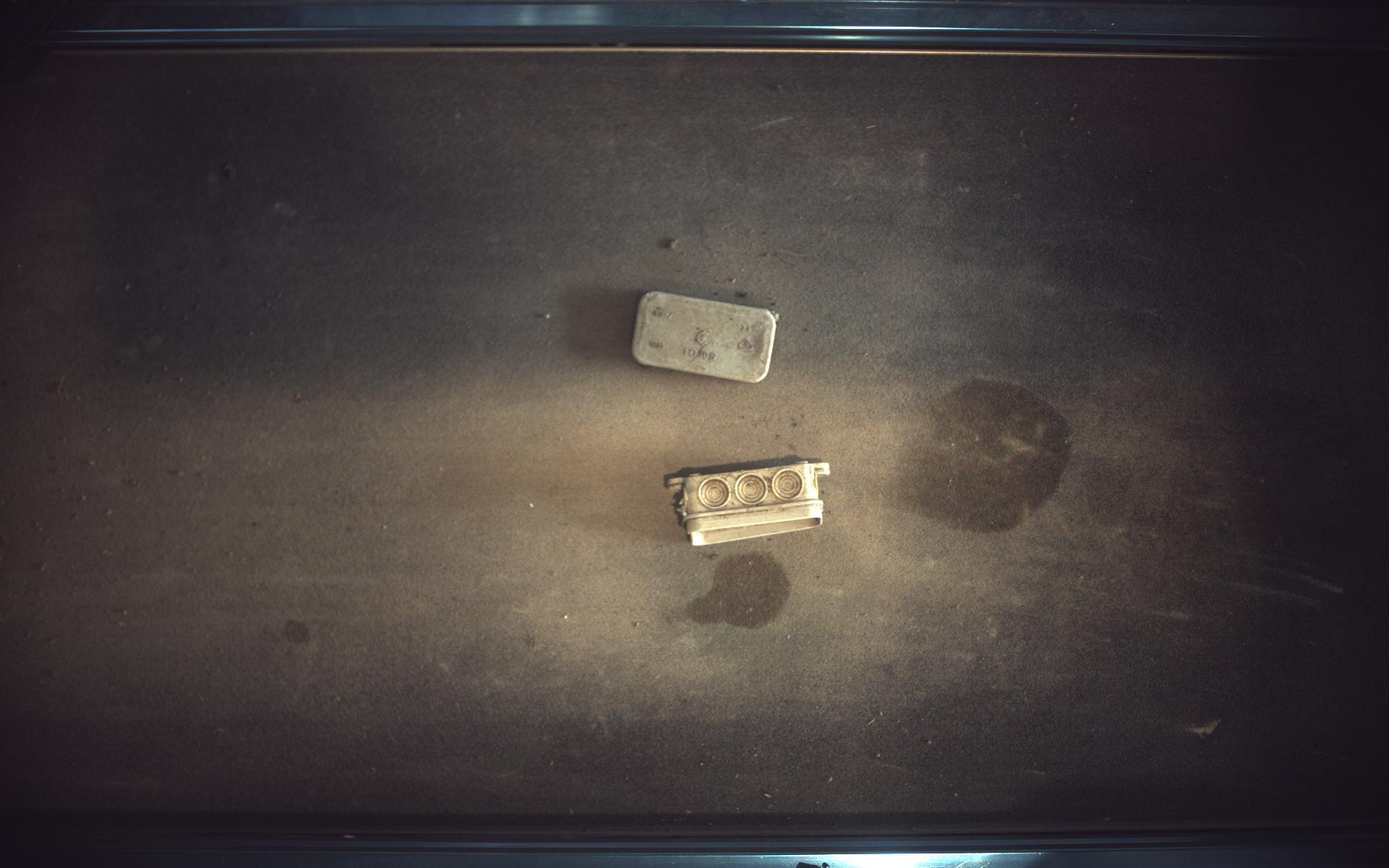plastic: (668, 461, 831, 548), (633, 291, 780, 383)
